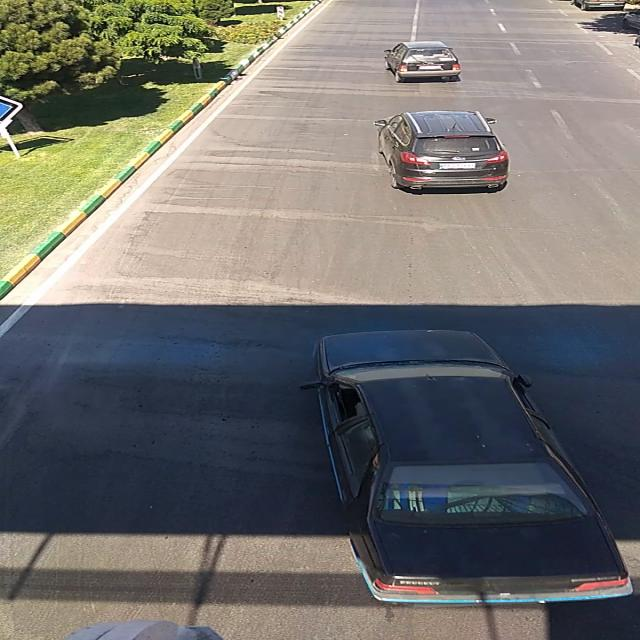car: (309, 332, 634, 605), (370, 111, 513, 192), (380, 40, 464, 82)
